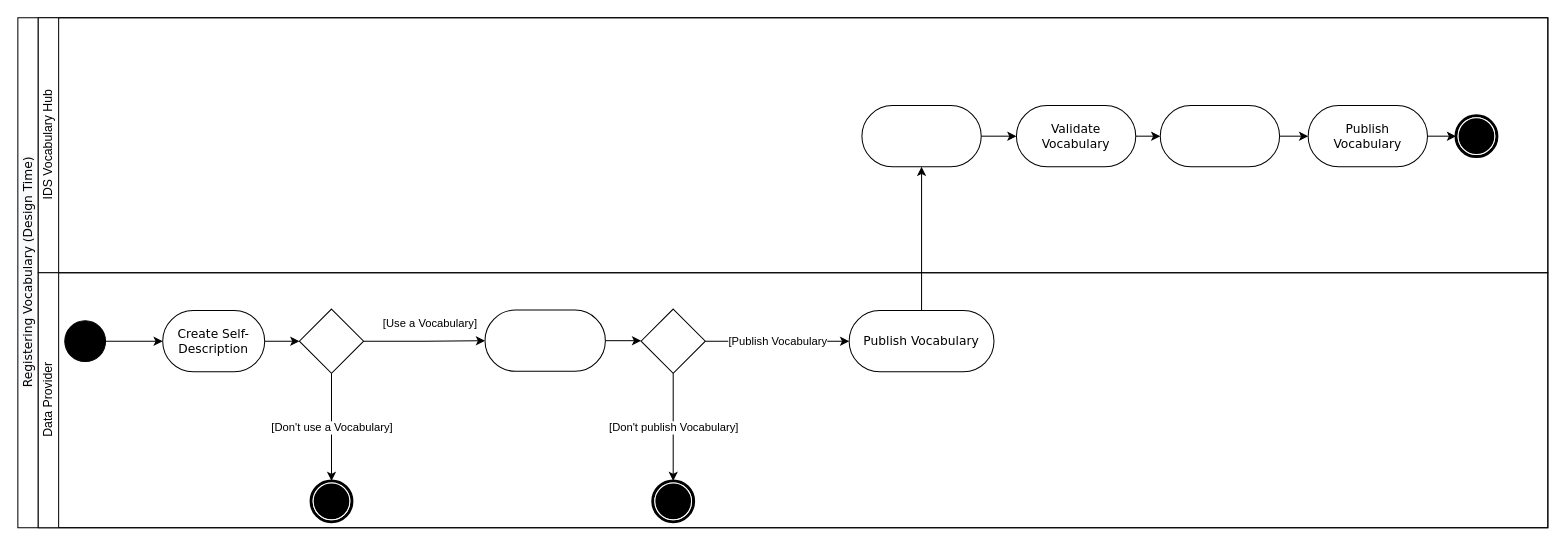
Some shapes in this 1566 by 546 pixel diagram are drawn without their labels. Here are the shapes that lost their labels. From the top down, the centre of each, then its label:
the point at 921,136: Receive Vocabulary
the point at 1219,136: Persist Vocabulary
the point at 544,340: Add Vocabulary to Self Description
